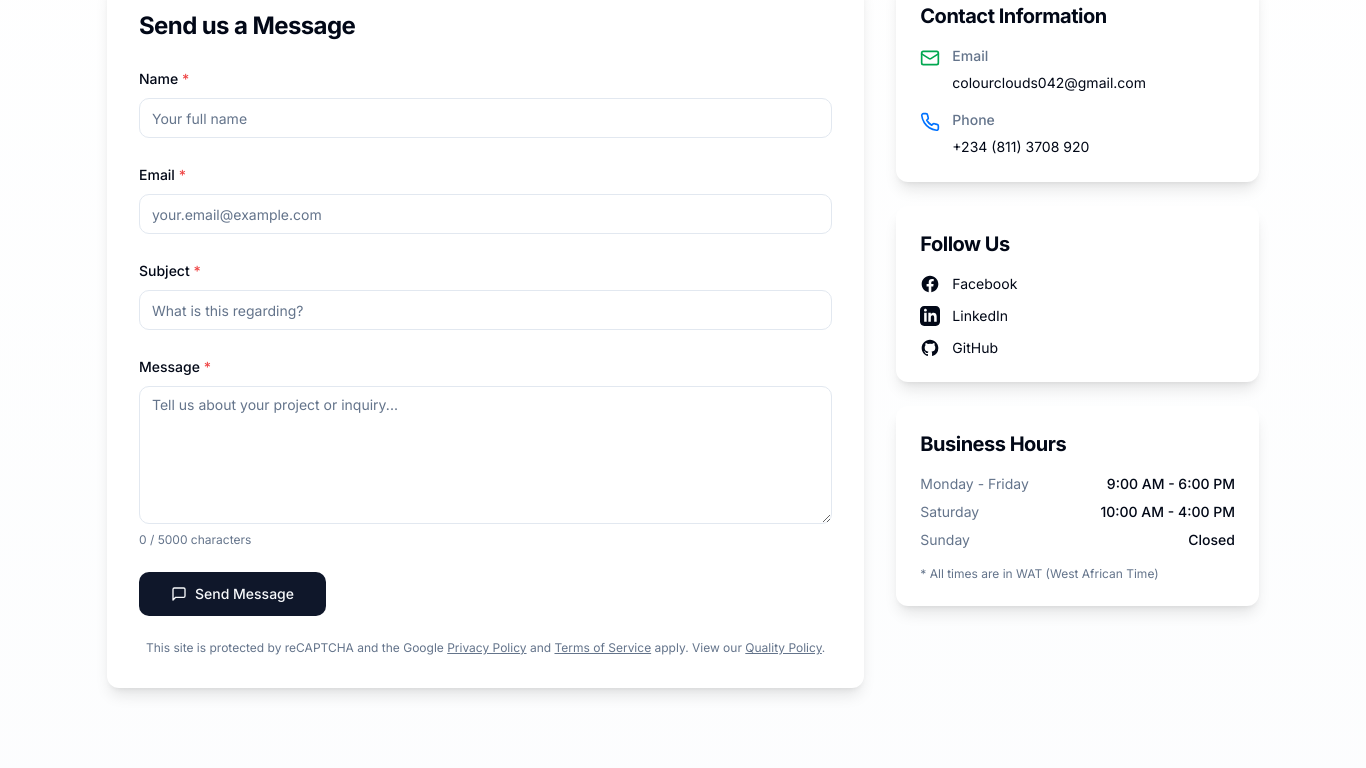
it: Contact Page › Client-side Validation › should show validation errors for empty required fields
(page scrolled)
Click the button "Send Message": click(232, 594) [139, 572, 326, 616]
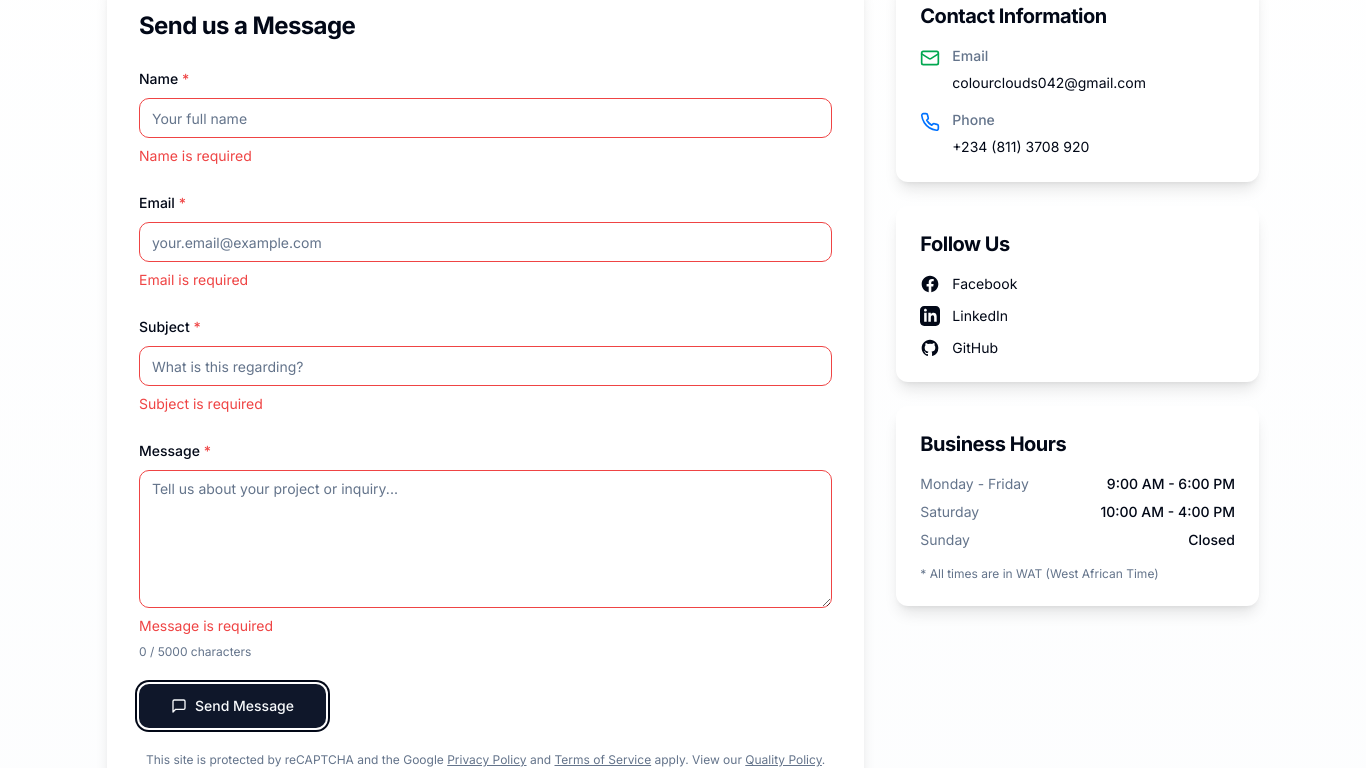
Expected: the text "Name is required" is shown, [139, 147, 252, 164]
Expected: the text "Email is required" is shown, [139, 271, 248, 288]
Expected: the text "Subject is required" is shown, [139, 395, 263, 412]
